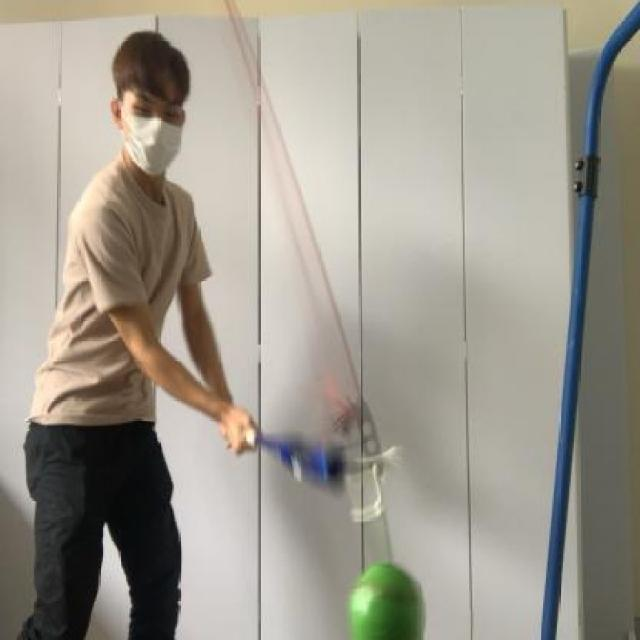baseball: (344, 557, 428, 640)
